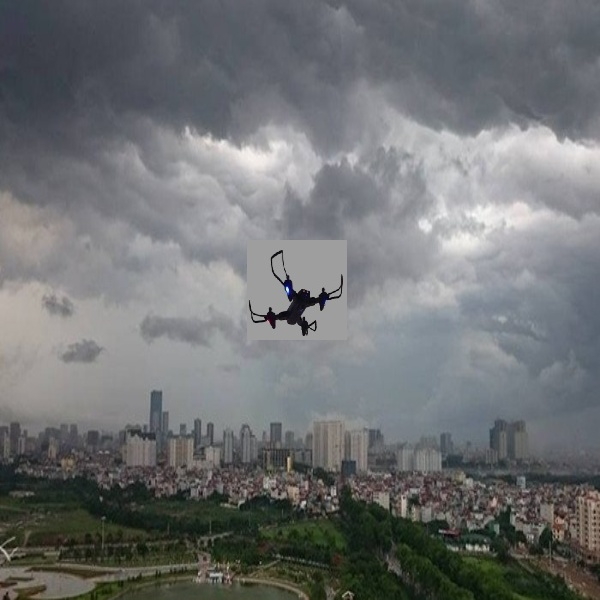drone: (249, 240, 344, 340)
